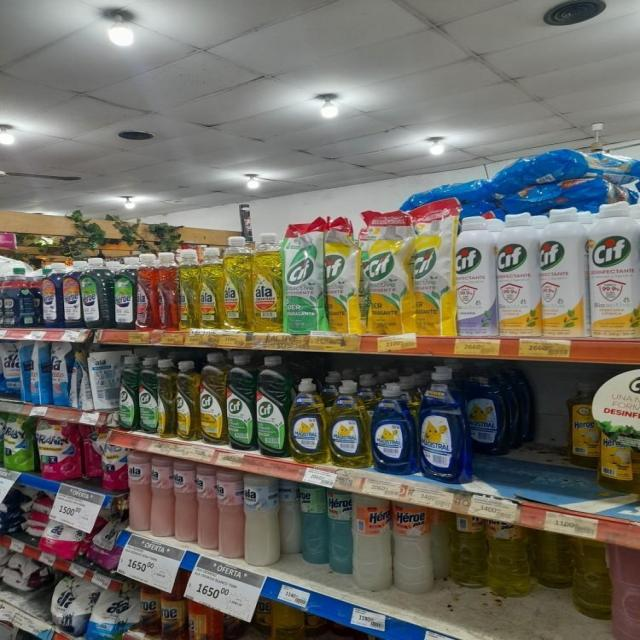ala_conc_amarillo: (251, 231, 282, 333), (223, 236, 251, 331), (200, 244, 222, 330), (179, 246, 198, 330)
ala_conc_rojo: (157, 252, 178, 330), (136, 253, 156, 330)
ala_crem_blanco: (243, 472, 280, 566)
ala_crem_rosado: (173, 459, 196, 544), (127, 452, 150, 534), (150, 454, 172, 538)
cif_conc_bot_amarilla: (200, 354, 226, 446), (175, 357, 198, 442), (158, 358, 174, 438)
cif_conc_botella_verde: (256, 355, 288, 457), (227, 353, 254, 452), (138, 357, 157, 435), (119, 355, 138, 432)
cif_conc_sachet_amarillo: (364, 210, 411, 336), (411, 204, 453, 337), (325, 216, 361, 334)
heroe: (392, 497, 438, 595), (353, 491, 391, 592), (450, 510, 486, 589), (328, 486, 352, 576)
magistral_con_amarillo: (329, 379, 369, 468), (289, 378, 327, 462)
magistral_con_azul: (418, 365, 465, 483), (371, 380, 415, 474), (467, 365, 505, 457)
